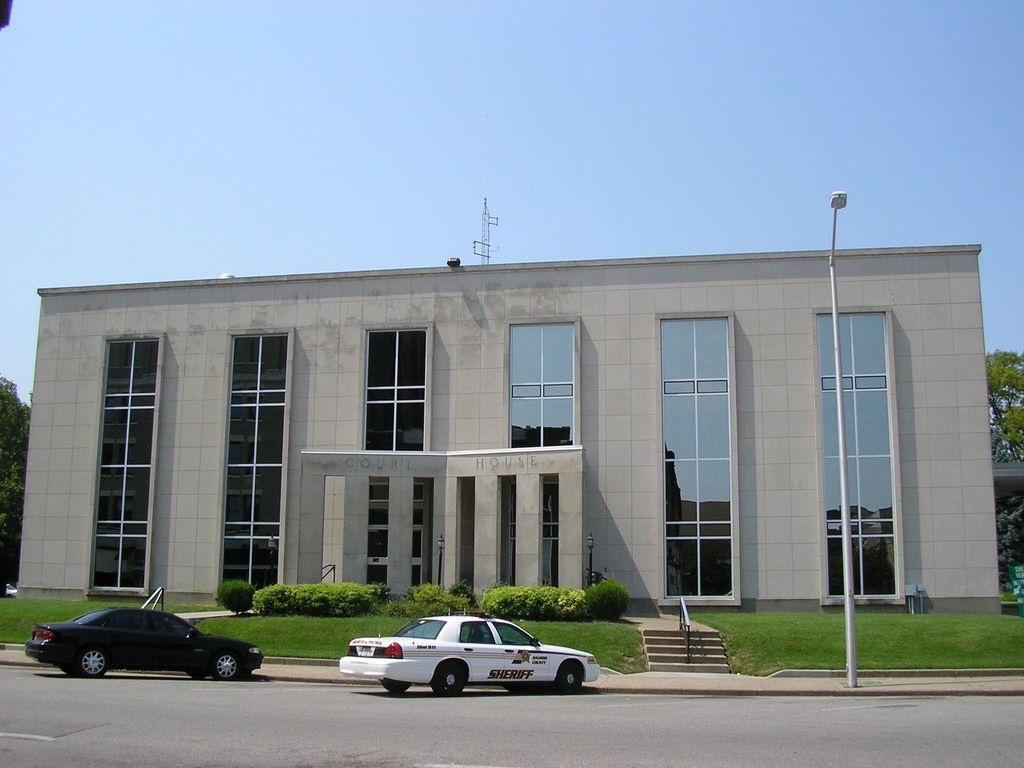Car: (339, 608, 604, 700), (26, 597, 261, 677)
